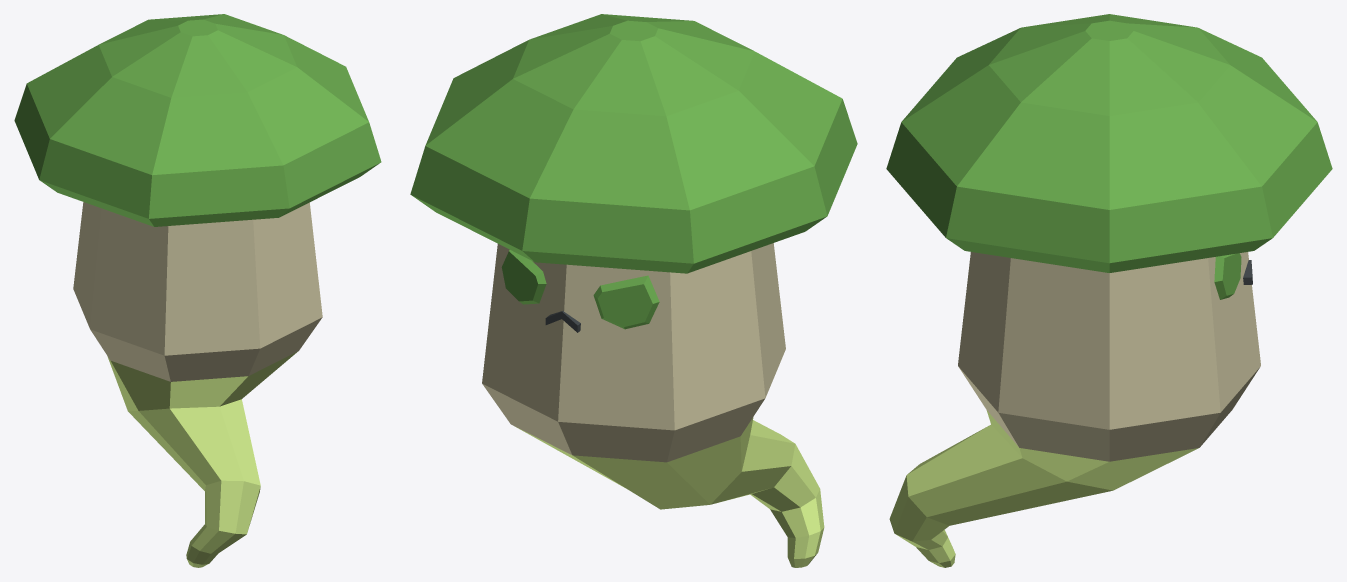
File: enemy_earth.fbx
3 views of the same model, side by side, from view 1: azimuth 30°, elevation 25°; view 2: azimuth 150°, elevation 25°; view 3: azimuth 270°, elevation 25° (orthographic). The views are drawn at different scales.
Visible parts, largest first — view 1: Plane.008; view 2: Plane.008; view 3: Plane.008.
Part boxes in pixels (<box>): Plane.008: <box>14,14,381,567</box>; Plane.008: <box>410,14,857,567</box>; Plane.008: <box>886,14,1332,567</box>.
Bounding box in the file's own units: 225 × 320 × 225.
